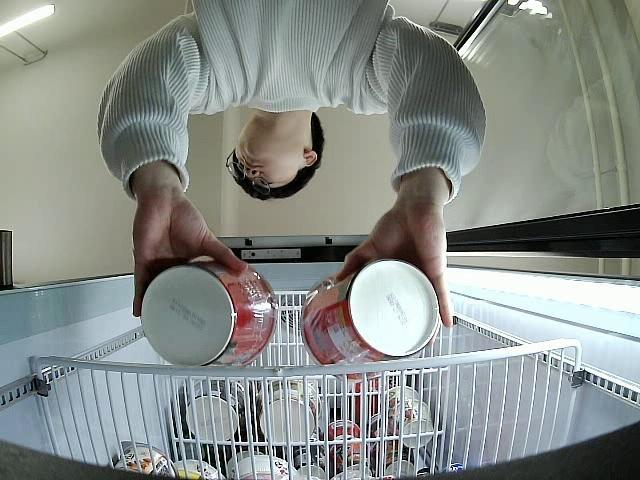01_ShinRamen_L: (301, 259, 438, 382), (140, 257, 278, 366)
